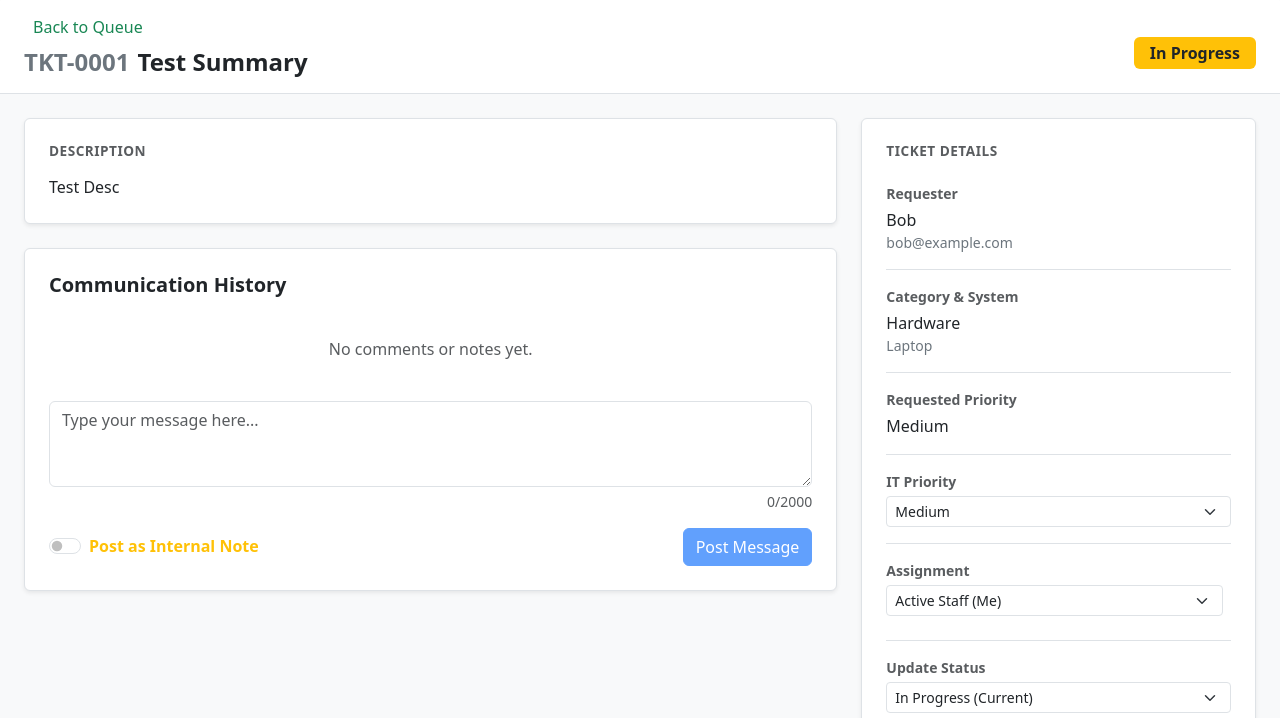
Test: StaffTicketDetail Component › shows required comment area for transitions
Select "Resolved" in the dropdown below "Update Status": (1059, 698) [886,682,1231,713]
(page scrolled)
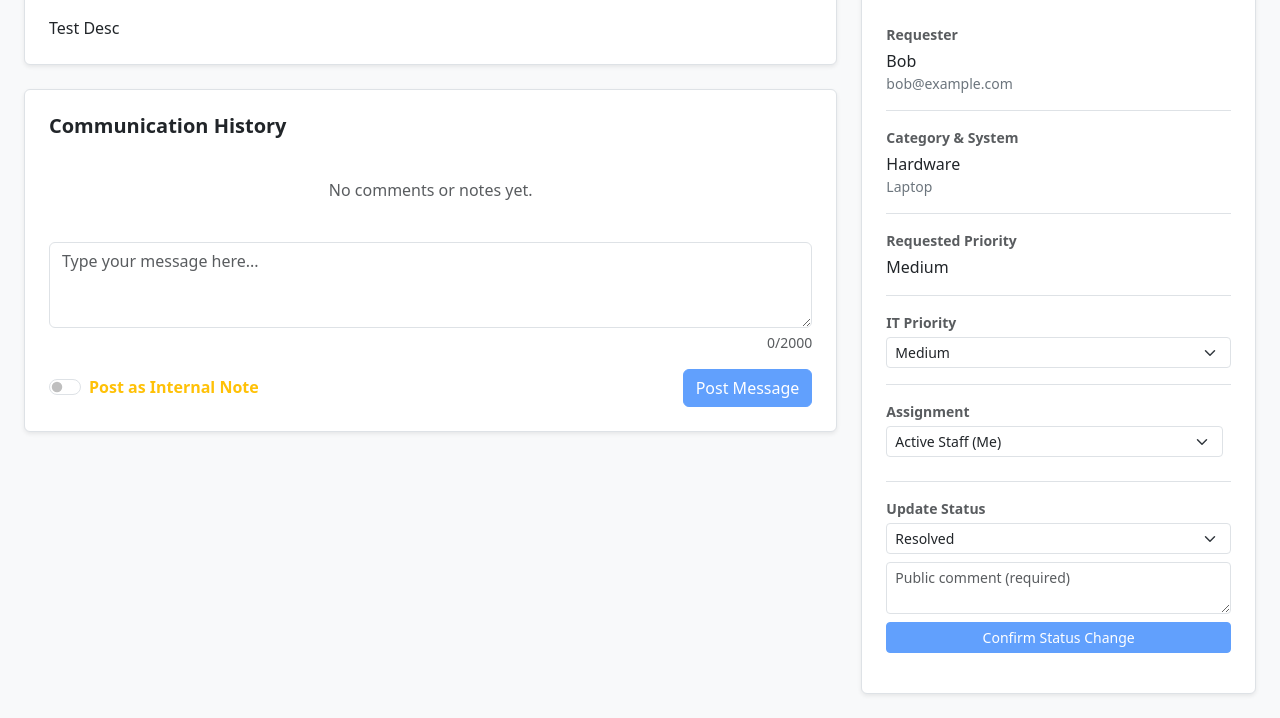
Result: the text box with placeholder "Public comment (required)" is shown at [886,562,1231,614]
